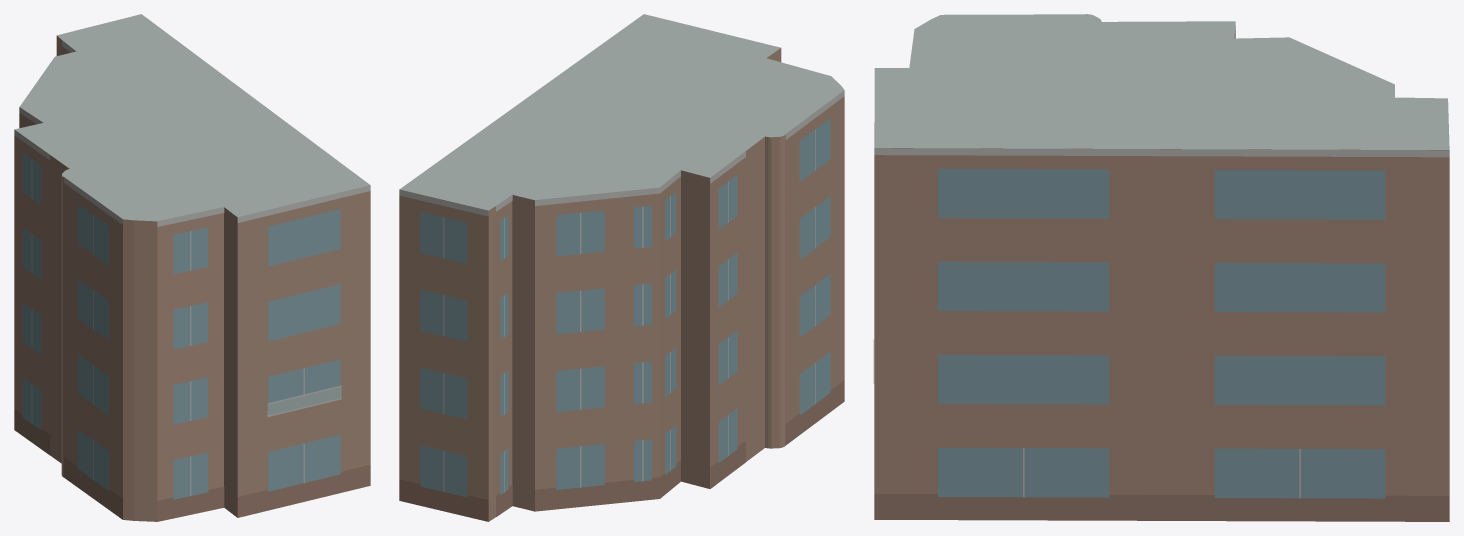
File: survey-upis-32631369.glb
The picture shows the model from 3 angles, left to right: view 1: azimuth 30°, elevation 25°; view 2: azimuth 150°, elevation 25°; view 3: azimuth 270°, elevation 25°; orthographic projection. The views are drawn at different scales.
Parts seen in each view (by area): view 1: survey-upis-32631369.tmp; view 2: survey-upis-32631369.tmp; view 3: survey-upis-32631369.tmp.
Part boxes in pixels (box(x1,y1,x2,y2)): survey-upis-32631369.tmp: box(14, 14, 370, 521); survey-upis-32631369.tmp: box(399, 14, 844, 521); survey-upis-32631369.tmp: box(873, 14, 1449, 521).
Bounding box in the file's own units: 9.98 × 12.7 × 17.85.
